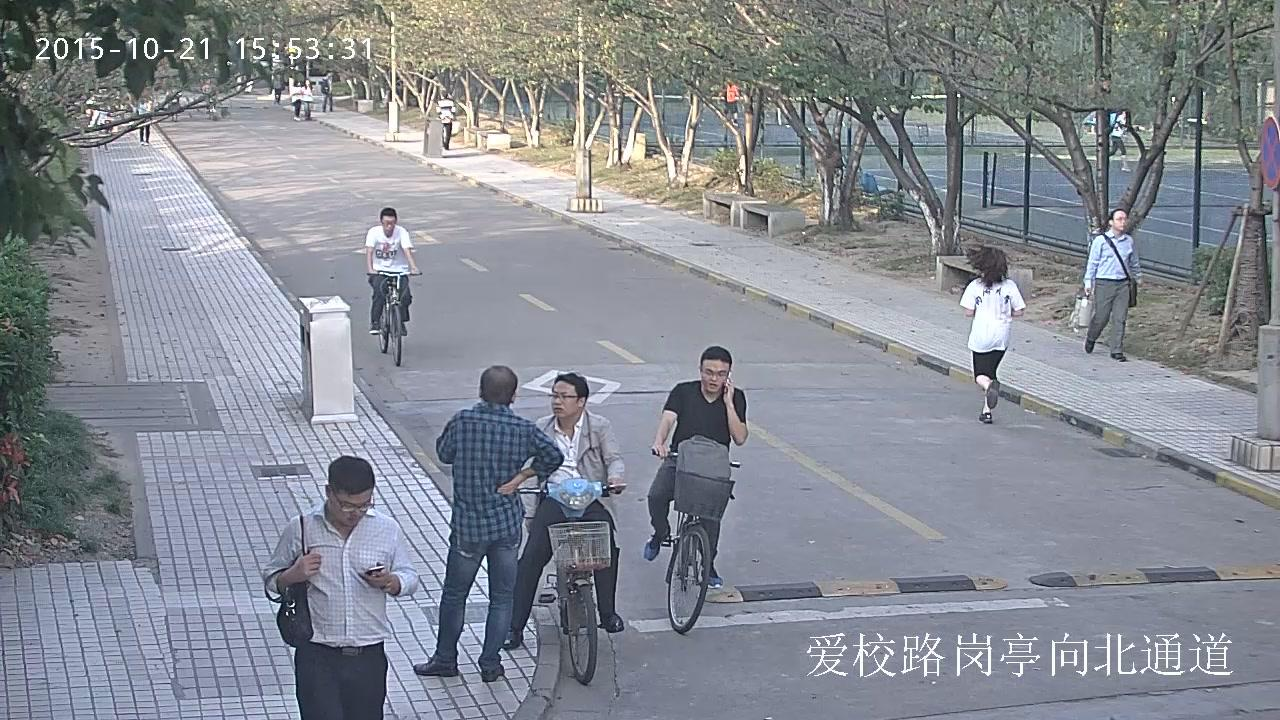face: (331, 486, 372, 527), (551, 381, 578, 418), (702, 358, 729, 393), (1112, 211, 1127, 231), (382, 215, 395, 236), (305, 79, 309, 85), (1122, 110, 1126, 116), (727, 79, 731, 83)
